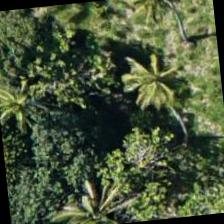Kelapa_Sawit: (109, 30, 208, 128), (133, 82, 223, 182), (132, 0, 222, 89), (0, 57, 68, 154), (54, 164, 150, 223)
